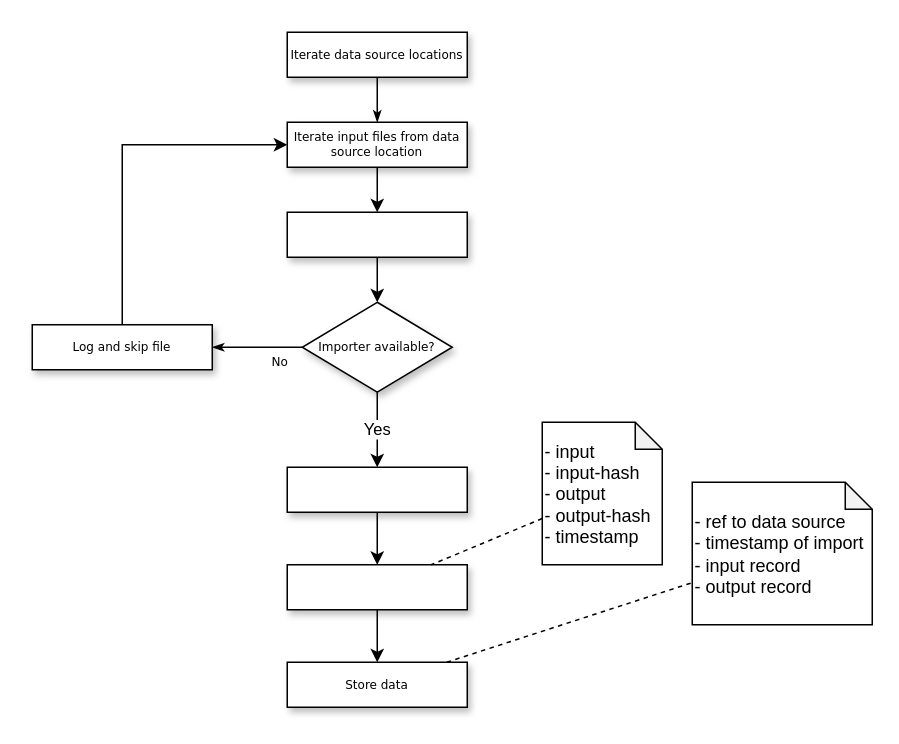
This 899x744 diagram has some shape labels left out. Each missing label, with the centre of its shape:
Read data: point (378, 491)
Search suitable importer: point (378, 236)
Store meta-data: point (378, 588)
